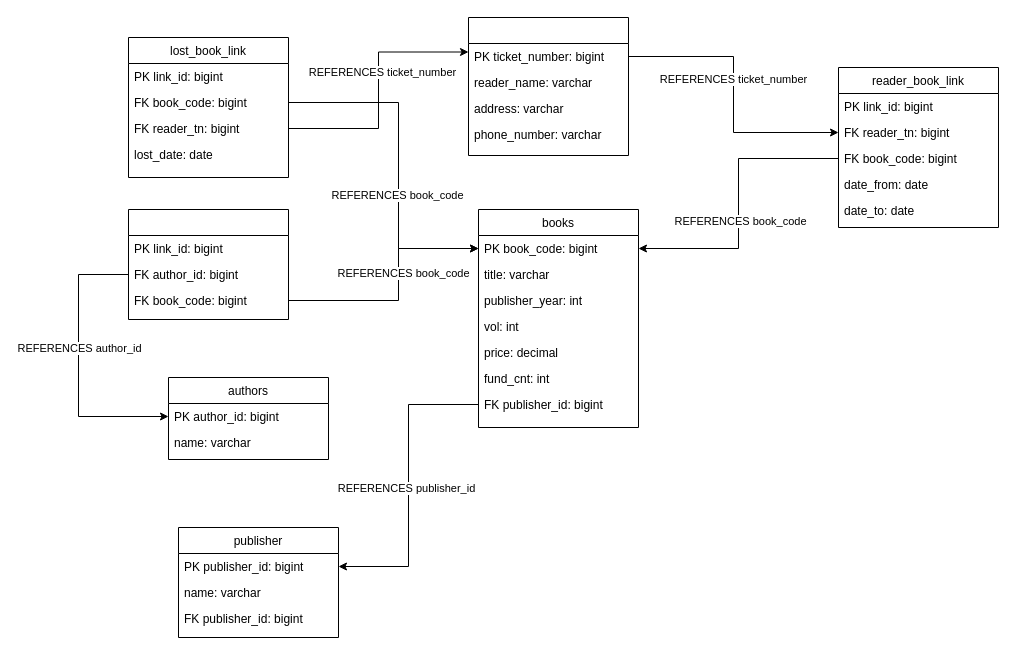
Image size: 1016x655. Some labels were removed from this diagram. Here are the shapes that lost their labels. From the top down, the box of each, then its label:
(468, 16, 628, 156): readers
(128, 208, 288, 320): book_author_link
